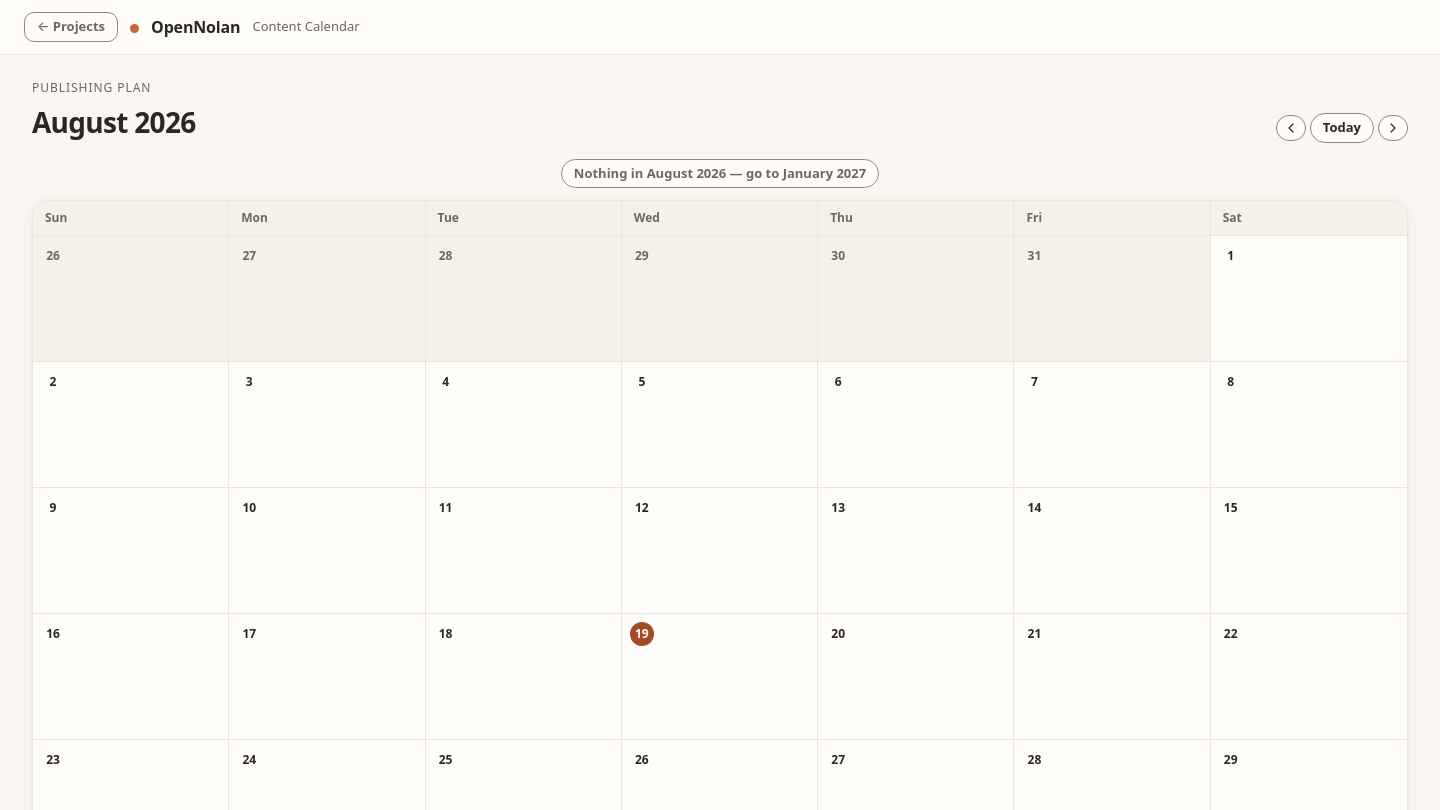
Scenario: Content Calendar › offers a jump to the month that actually holds the entry
Click the button "Nothing in August 2026 — go to January 2027" at x=720, y=173, box top-left (561, 158), bottom-right (879, 188)
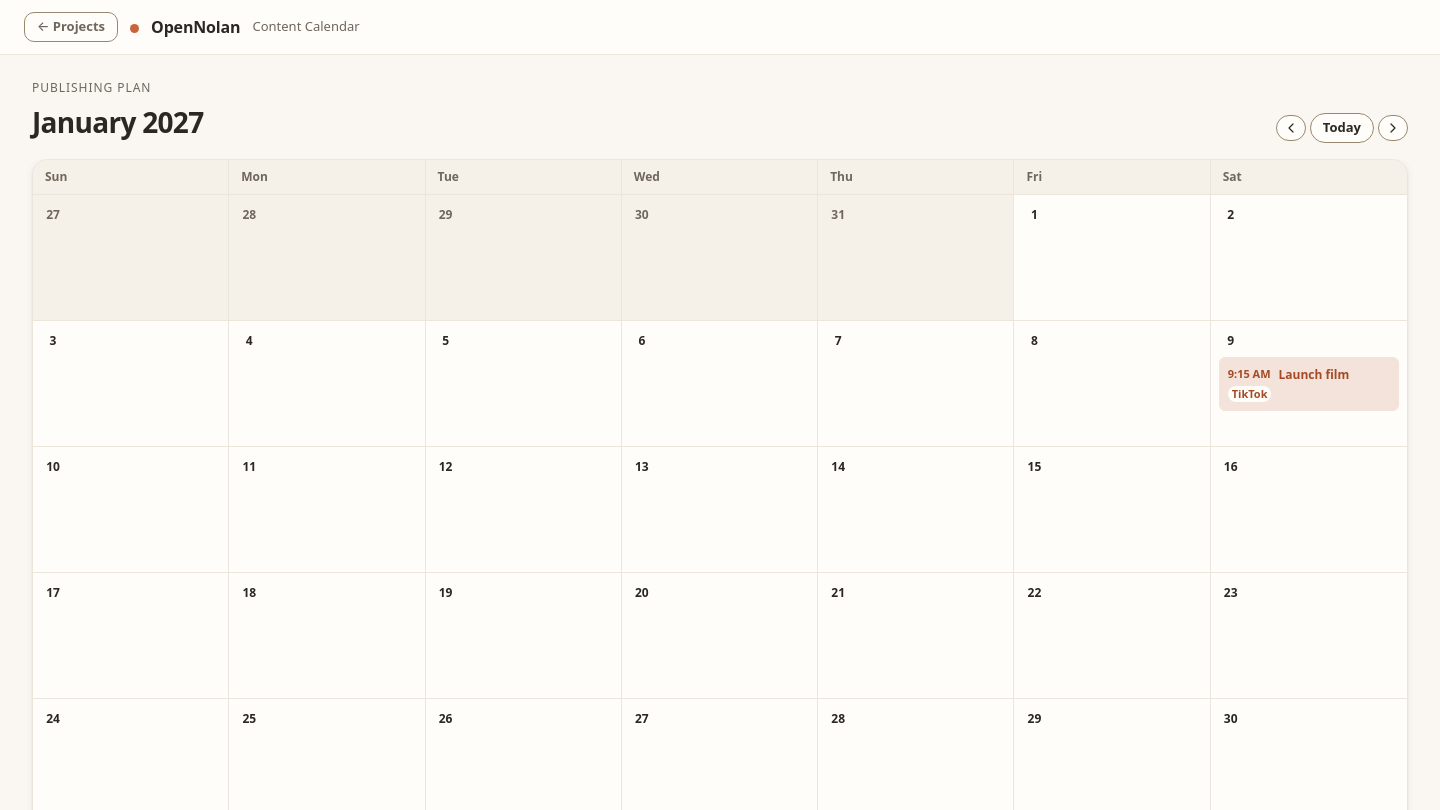
expect the button "9:15 AM Launch film TikTok" is shown: met, box top-left (1219, 356), bottom-right (1399, 411)
expect the button "go to" is gone: met
